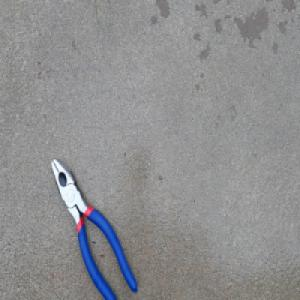Pliers: (51, 156, 139, 300)
